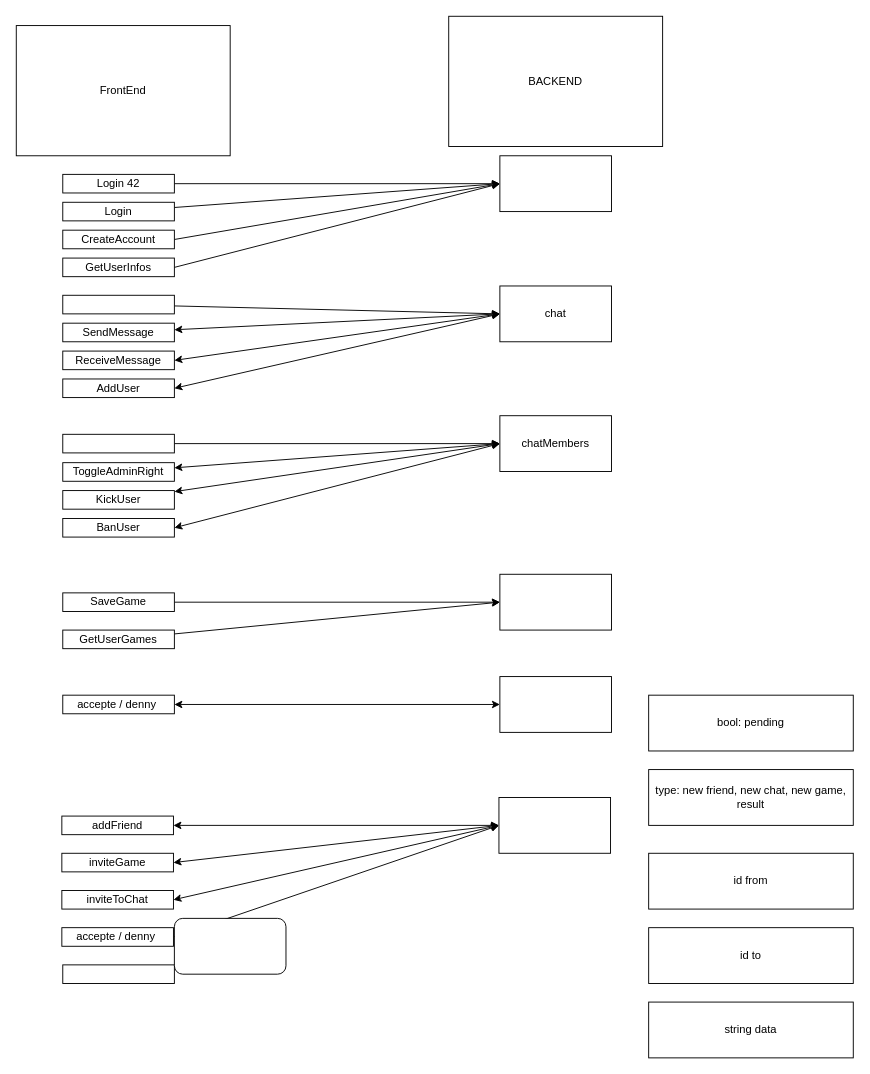
Image size: 870x1074. Some labels were removed from this diagram. Each missing label, with the centre of its shape:
"friends" belongs at (x=555, y=704).
"games" belongs at (x=555, y=601).
"GetChatHistoric" belongs at (x=118, y=304).
"GetChatUsers" belongs at (x=118, y=443).
"getGame" belongs at (x=118, y=973).
"notification" belongs at (x=554, y=825).
"users" belongs at (x=555, y=183).
